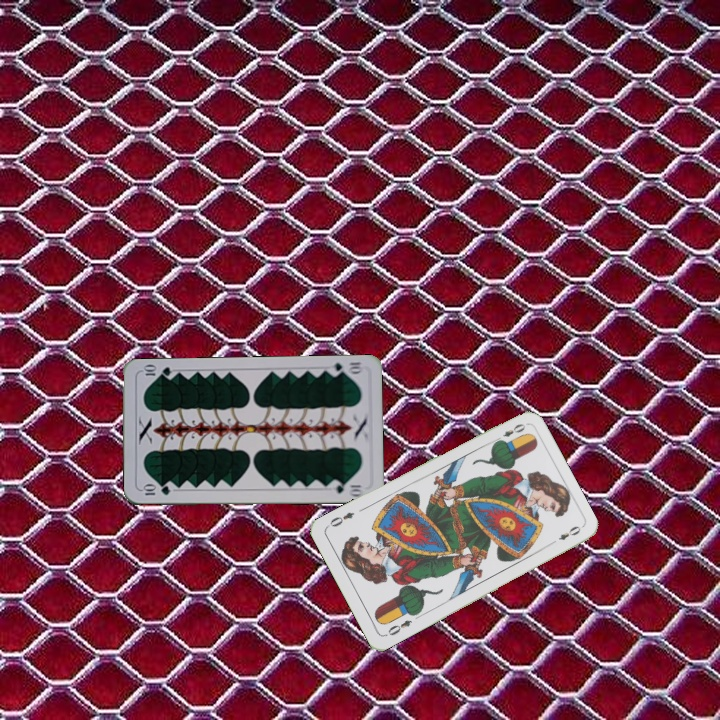EO: (490, 419, 528, 446), (381, 616, 414, 639)
G10: (325, 358, 365, 378), (139, 482, 173, 498)
